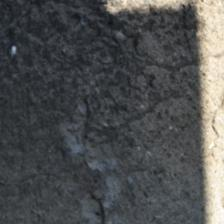Crack: (6, 0, 92, 109), (0, 5, 61, 38)
